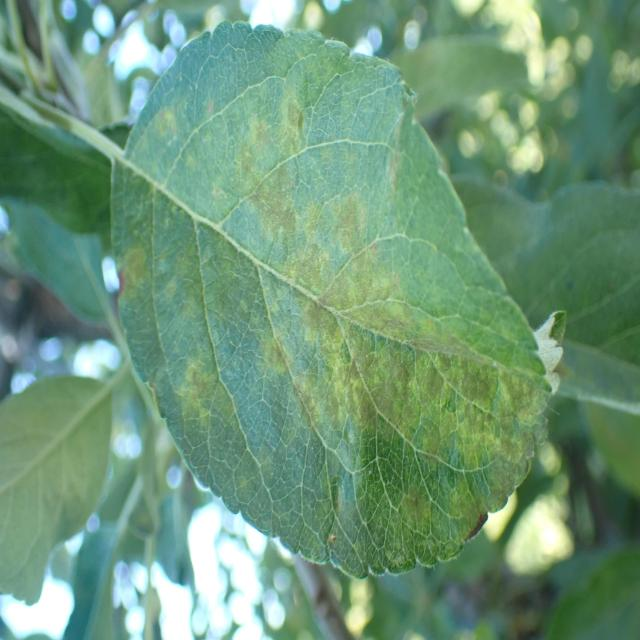scab: (123, 70, 544, 564)
